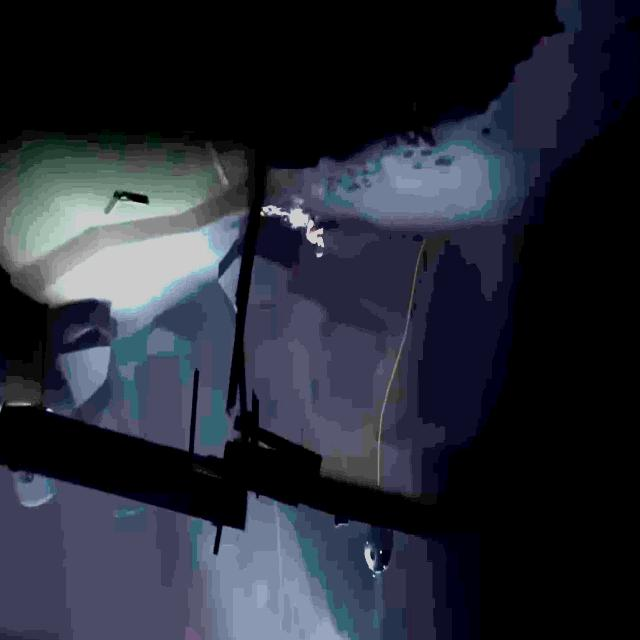boy: (305, 212, 324, 258)
